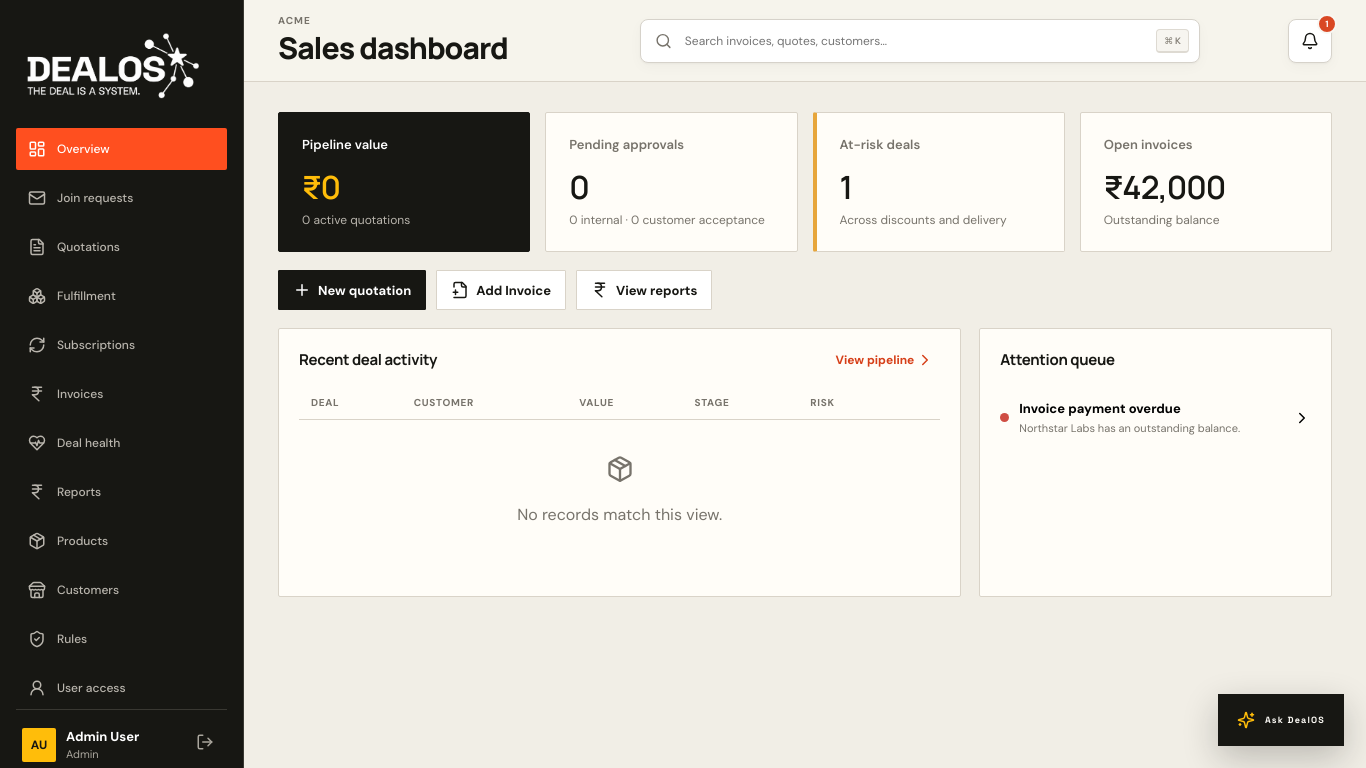
DealOS public routes › searches across modules and surfaces workspace notifications in English
Type "1042" into the field named "Search across workspace". click: (920, 40)
box: [640,18,1200,62]
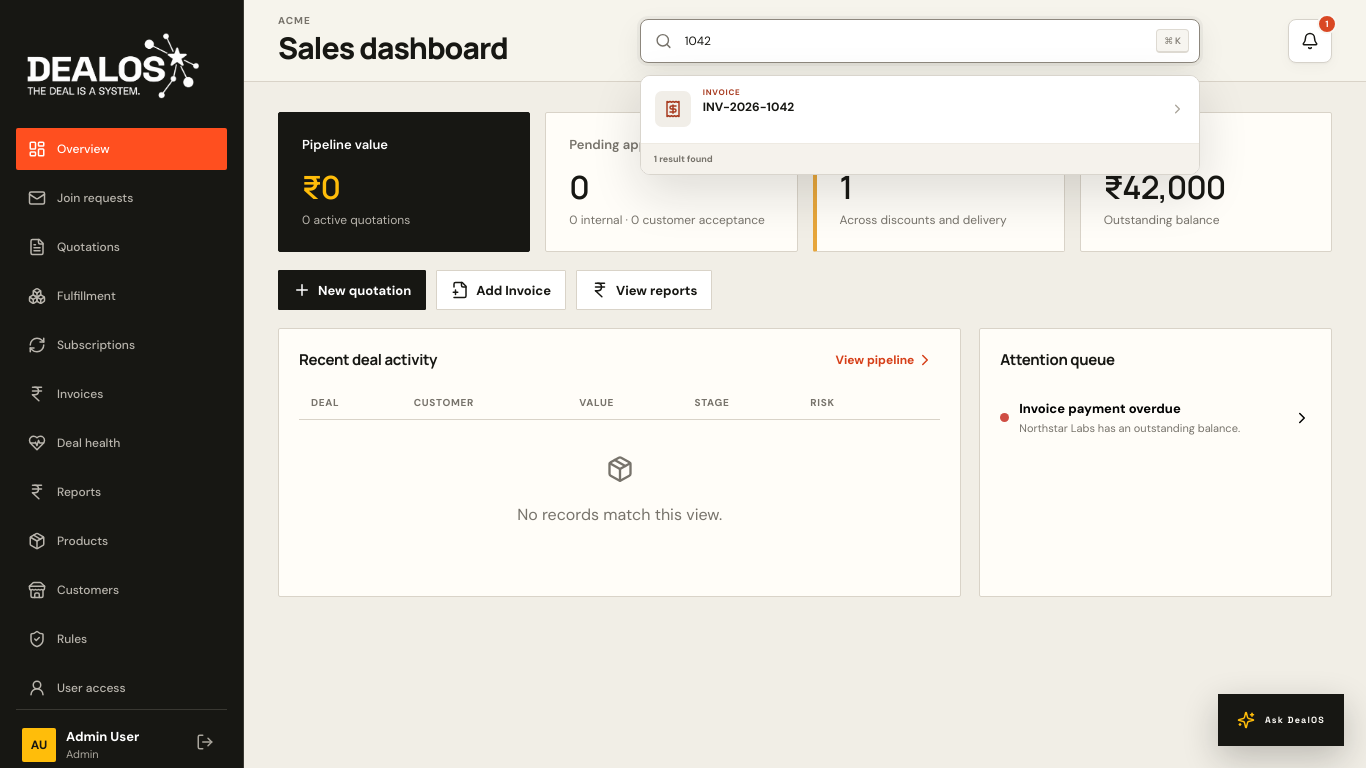
Expected: the text "Invoice" is shown, [703,86,740,96]
Expected: the text "INV-2026-1042" is shown
Click the text "INV-2026-1042". click: (749, 106)
box: [703,98,794,114]
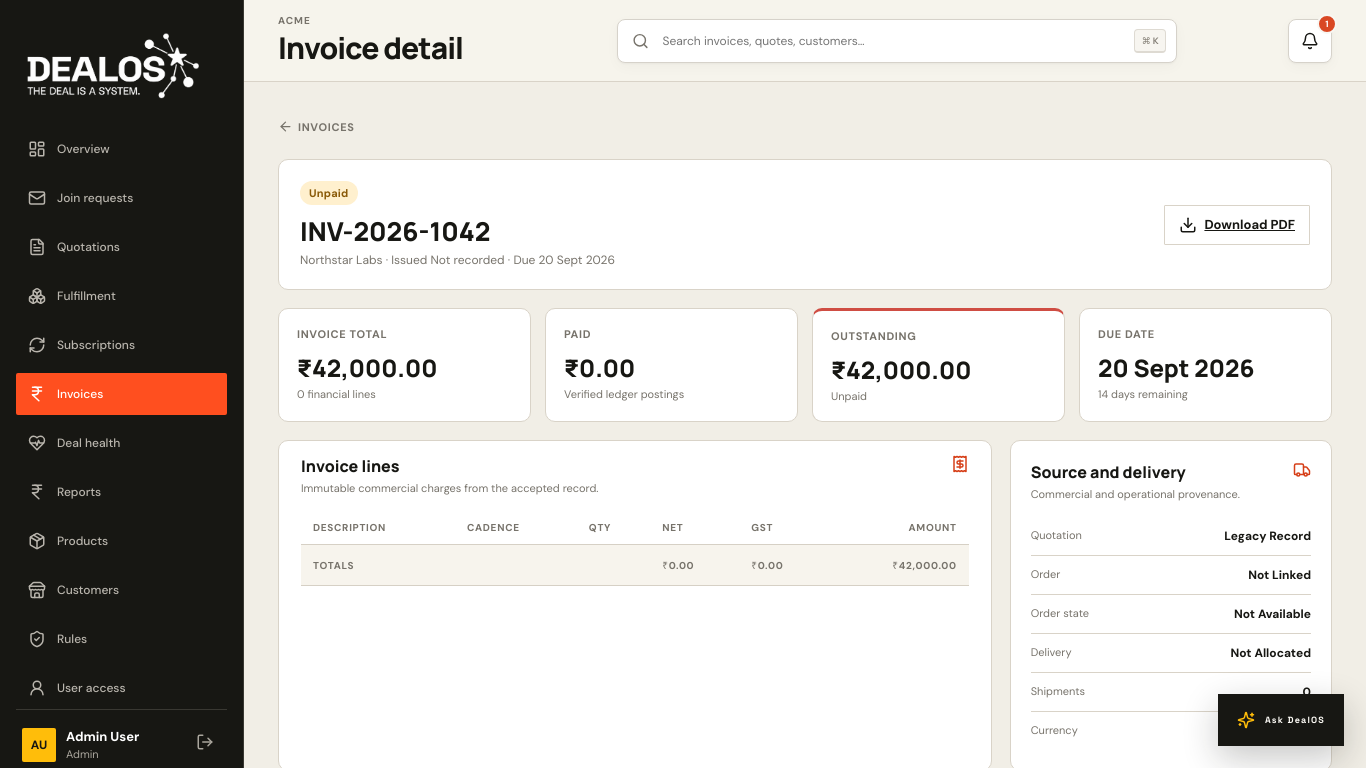
Expected: the heading "Invoice detail" is shown, [278,26,463,68]
Click the button named "Notifications (1 unread)". click: (1310, 40)
box: [1288,18,1332,62]
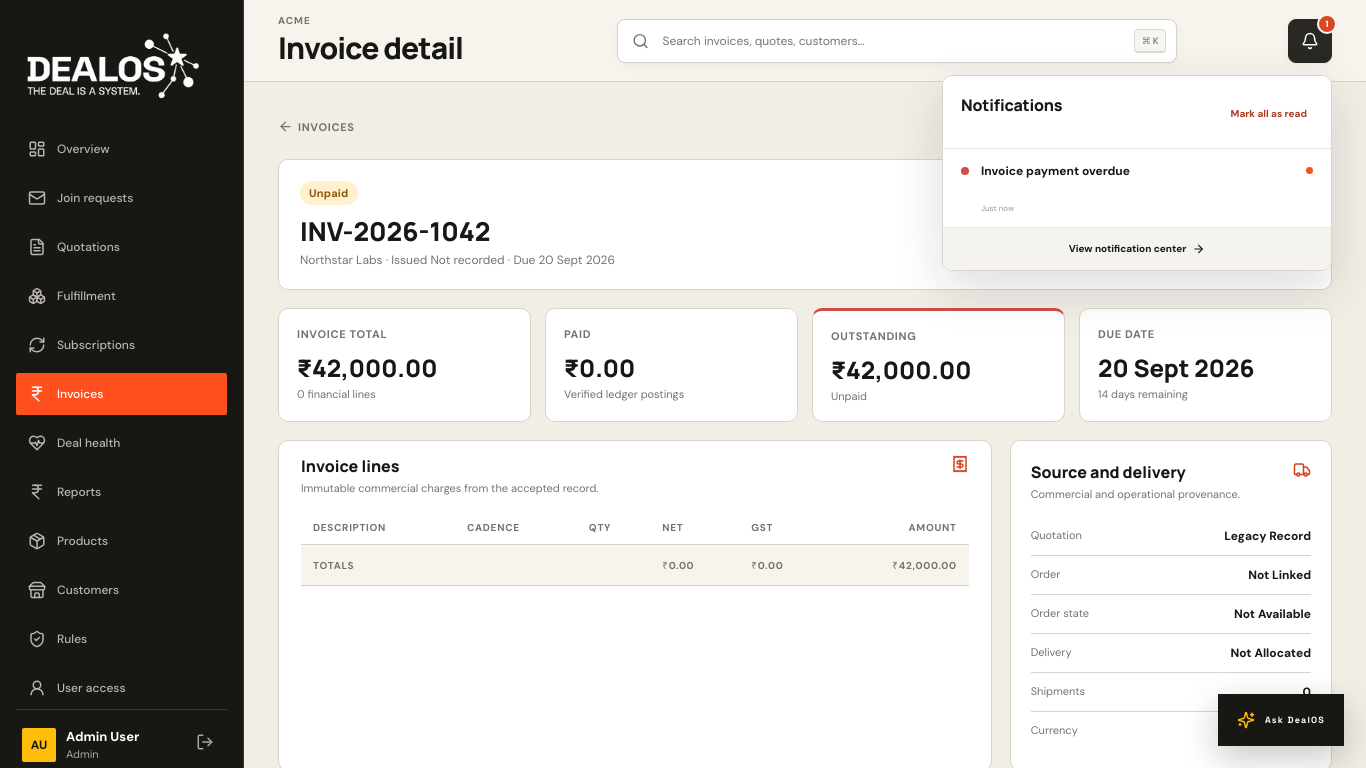
Expected: the text "Invoice payment overdue" is shown, [981,162,1130,178]
Expected: the button "Mark all as read" is shown, [1224,106,1313,120]
